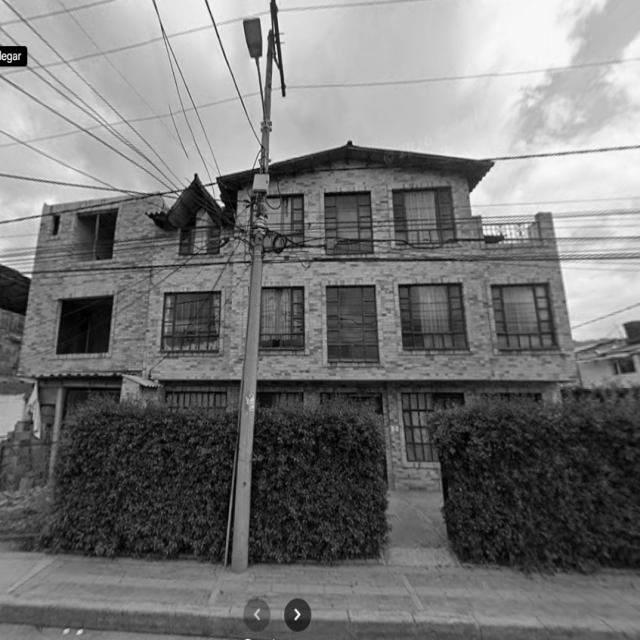Fachada: (256, 141, 577, 489), (3, 171, 255, 489)
Poste: (230, 0, 285, 572), (244, 18, 263, 81)
